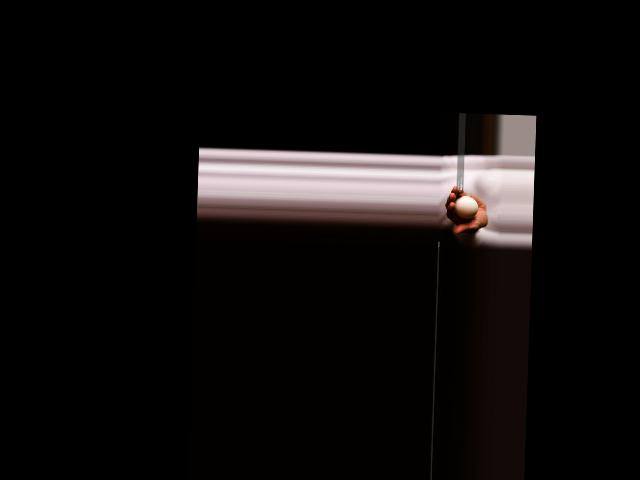egg: (453, 195, 478, 219)
